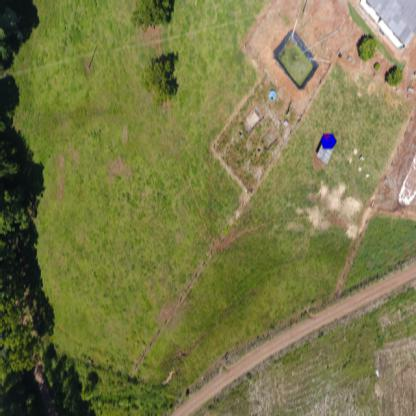L: (320, 132, 337, 152)
